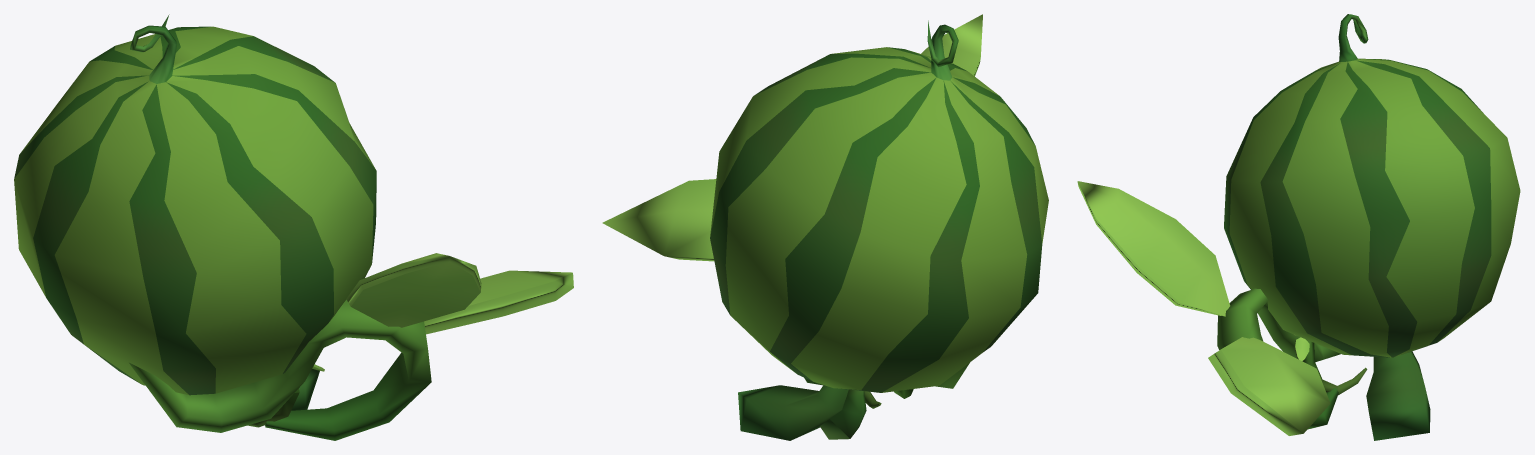
File: Watermelon_all_form.FBX
The picture shows the model from 3 angles, left to right: view 1: azimuth 30°, elevation 25°; view 2: azimuth 150°, elevation 25°; view 3: azimuth 270°, elevation 25°; orthographic projection. The views are drawn at different scales.
Visible parts, largest first — view 1: Night_watermelon; view 2: Night_watermelon, Child__watermelon; view 3: Night_watermelon, Child__watermelon.
Boxes of the visible parts, x1,y1,x2,y2 form: Night_watermelon: (14,14,573,440); Night_watermelon: (602,14,1048,440); Child__watermelon: (820,389,913,439); Night_watermelon: (1077,14,1520,440); Child__watermelon: (1293,334,1367,395).
Size of the model in its own units: 1.94 by 1.67 by 1.85.
